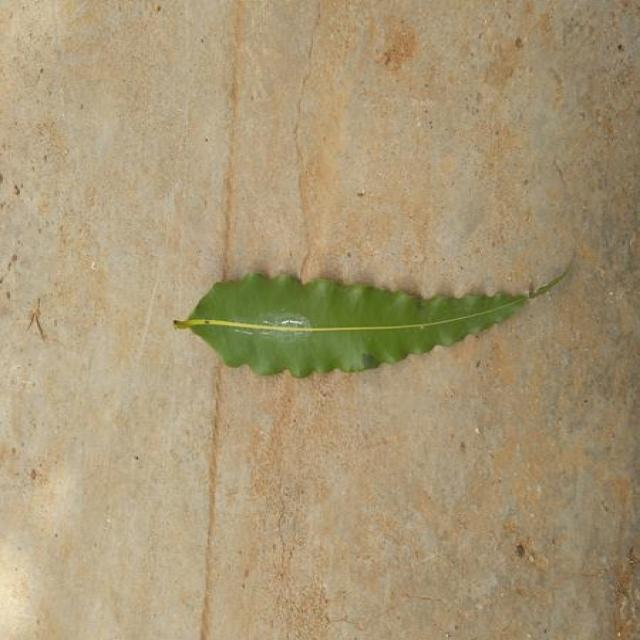ashoka: (175, 272, 567, 377)
defectedamla: (175, 272, 567, 378)
